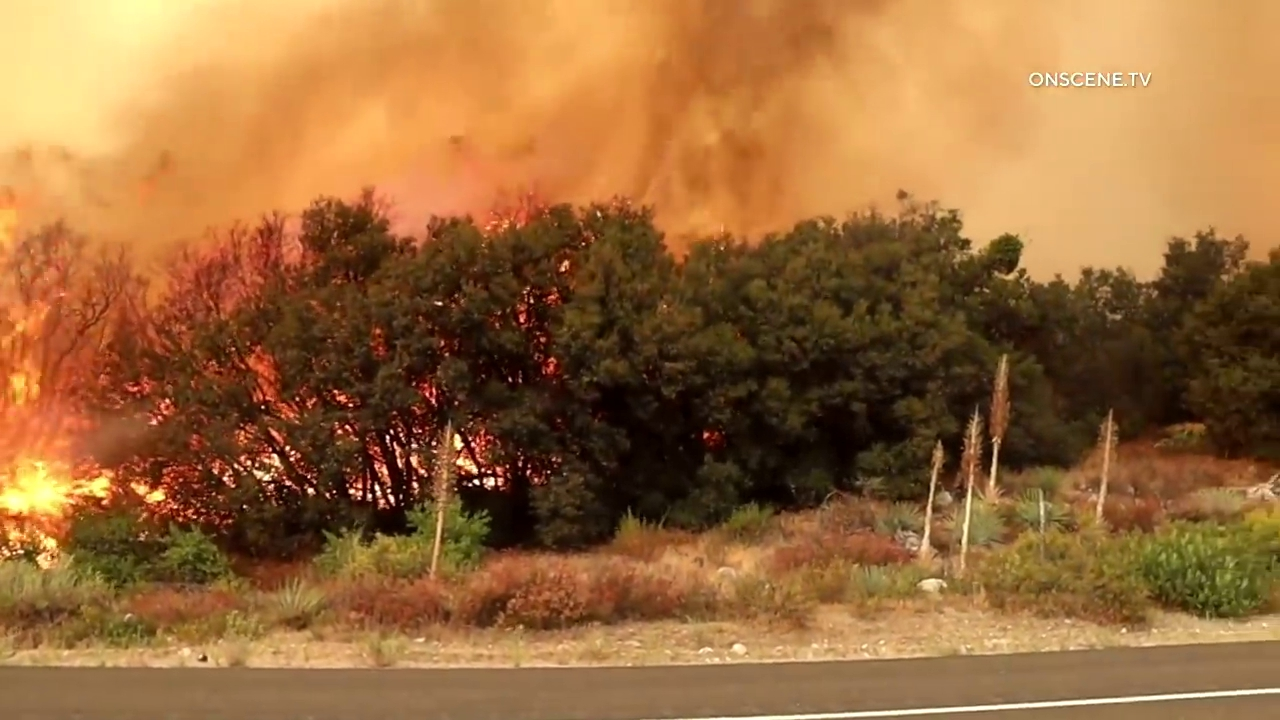forest_fire: (0, 458, 119, 517), (8, 371, 38, 405), (125, 483, 164, 505)
